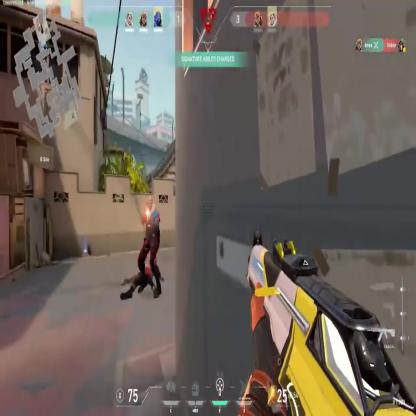enemy: (136, 195, 163, 298)
enemy_head: (146, 196, 153, 212)
